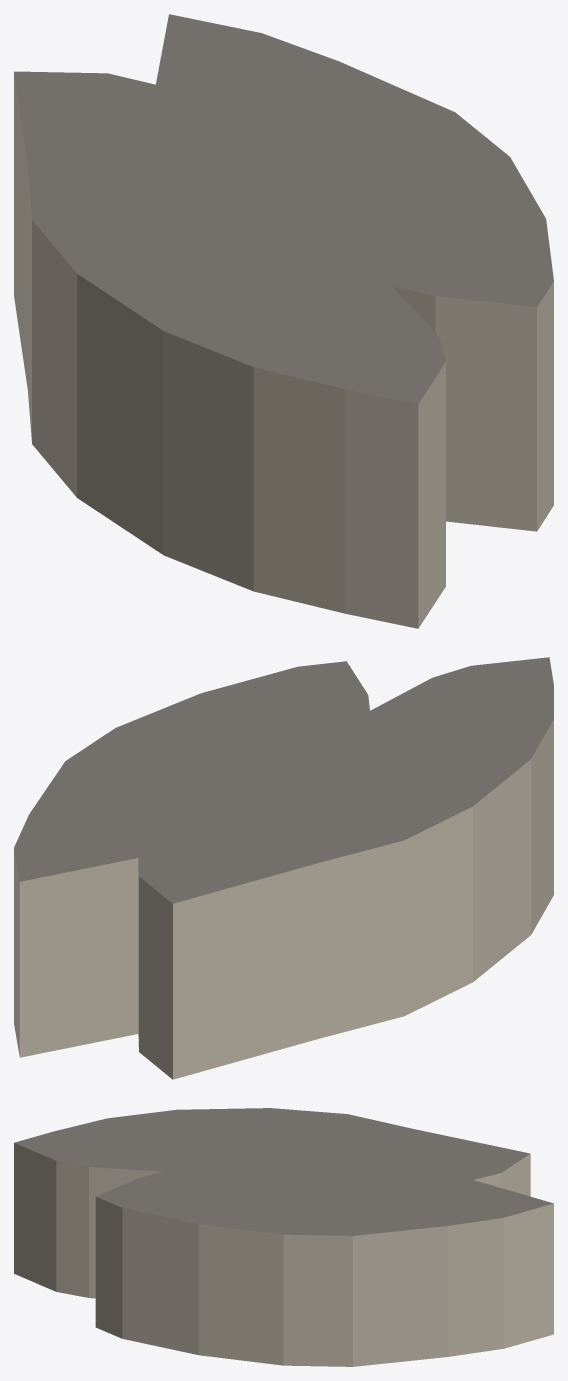
3 views of the same model, one above another, from view 1: azimuth 30°, elevation 25°; view 2: azimuth 150°, elevation 25°; view 3: azimuth 270°, elevation 25° (orthographic). The views are drawn at different scales.
Visible parts, largest first — view 1: HP-w859078873; view 2: HP-w859078873; view 3: HP-w859078873.
Part boxes in pixels (box(x1,y1,x2,y2)): HP-w859078873: box(14, 14, 553, 628); HP-w859078873: box(14, 657, 553, 1079); HP-w859078873: box(14, 1108, 553, 1366).
Bounding box in the file's own units: 37.69 × 18 × 67.24.
